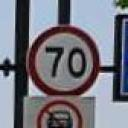speed_limit_70: (28, 25, 102, 97)
